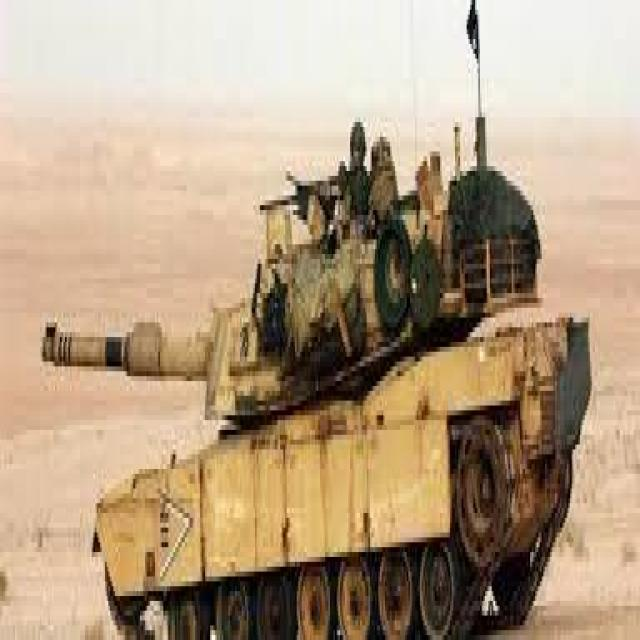Tanks: (22, 102, 572, 620)
